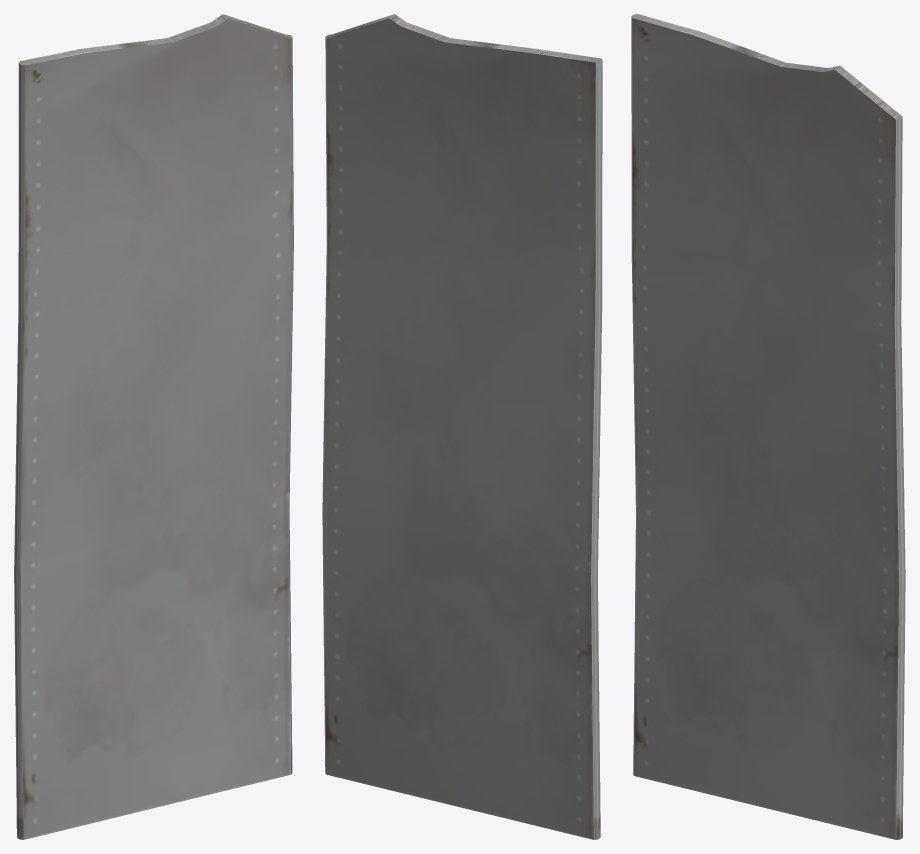
The model's file is HubFloor3.FBX.
The picture shows the model from 3 angles, left to right: view 1: azimuth 30°, elevation 25°; view 2: azimuth 150°, elevation 25°; view 3: azimuth 330°, elevation 25°; orthographic projection. The views are drawn at different scales.
Visible parts, largest first — view 1: Floor3; view 2: Floor3; view 3: Floor3.
Boxes of the visible parts, x1,y1,x2,y2 form: Floor3: (14, 14, 293, 839); Floor3: (322, 14, 602, 839); Floor3: (631, 14, 905, 839).
Size of the model in its own units: 5.69 by 15.46 by 0.3766.
